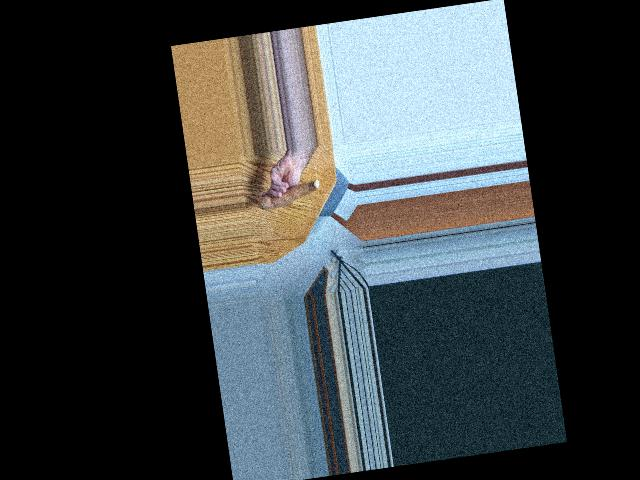sweet_potato: (258, 177, 319, 213)
